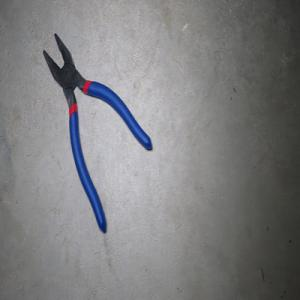Pliers: (42, 33, 152, 233)
